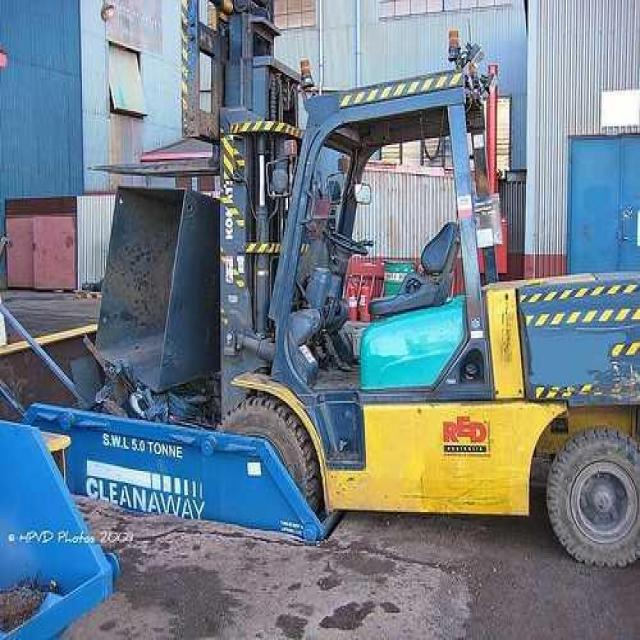Chariot elevateur: (88, 0, 638, 568)
